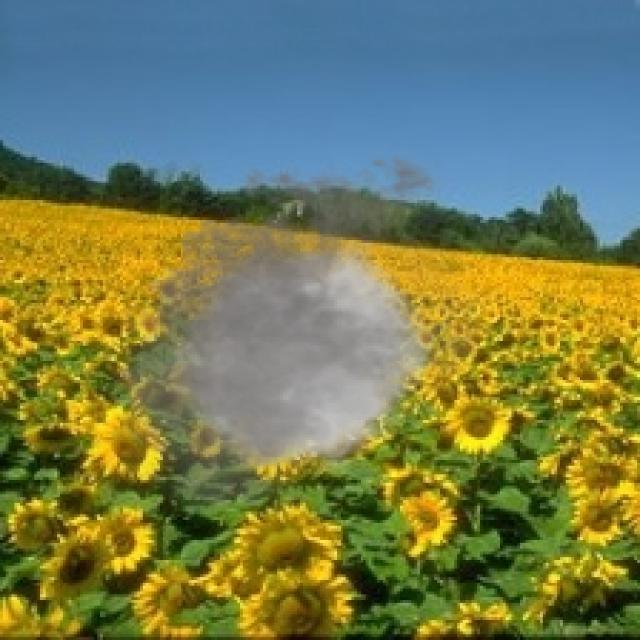smoke: (94, 143, 503, 526)
